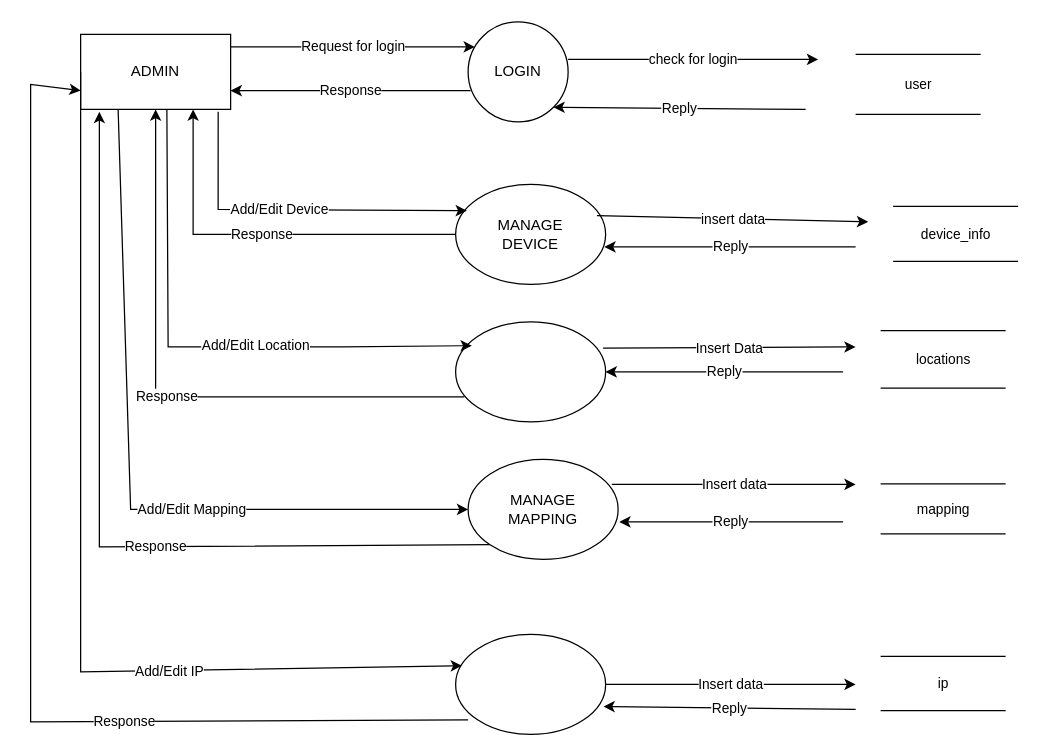
Image size: 1040x756. Some labels were removed from this diagram. Here are the shapes that lost their labels. From the top down, the box of each, then its label:
(454, 321, 606, 422): MANAGE LOCATION
(454, 633, 606, 734): MANAGE IP
